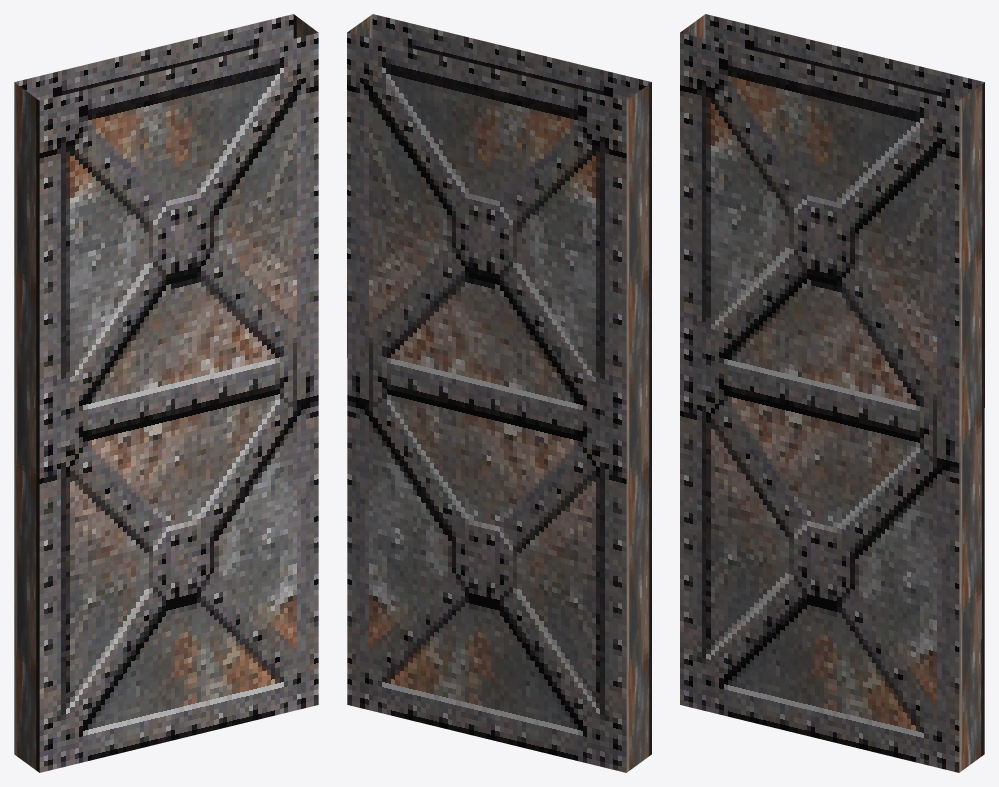
Rendered from metal_door_2.glb.
3 views of the same model, side by side, from view 1: azimuth 30°, elevation 25°; view 2: azimuth 150°, elevation 25°; view 3: azimuth 330°, elevation 25° (orthographic).
Parts seen in each view (by area): view 1: Object; view 2: Object; view 3: Object.
Part boxes in pixels (x1,y1,x2,y2): Object: (14, 14, 318, 772); Object: (347, 14, 651, 772); Object: (680, 14, 984, 772).
Bounding box in the file's own units: 1.27 × 2.92 × 0.2009.
Materials: 9 (9 with a texture image).
